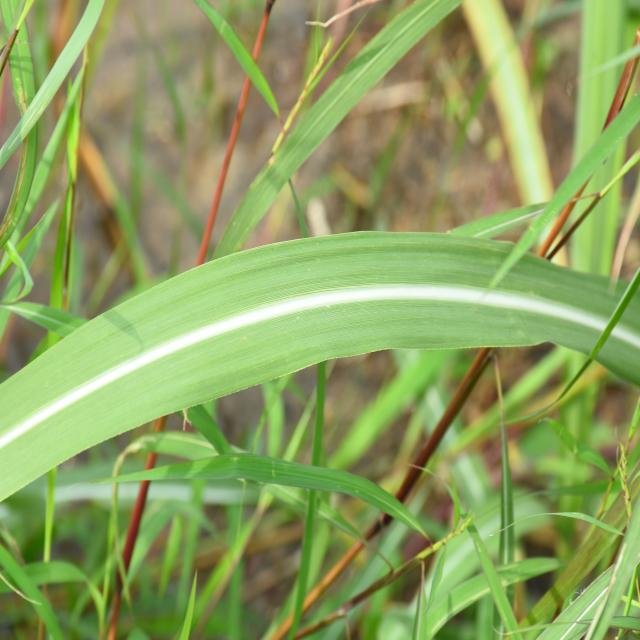Sugarcane: (0, 230, 640, 503)
